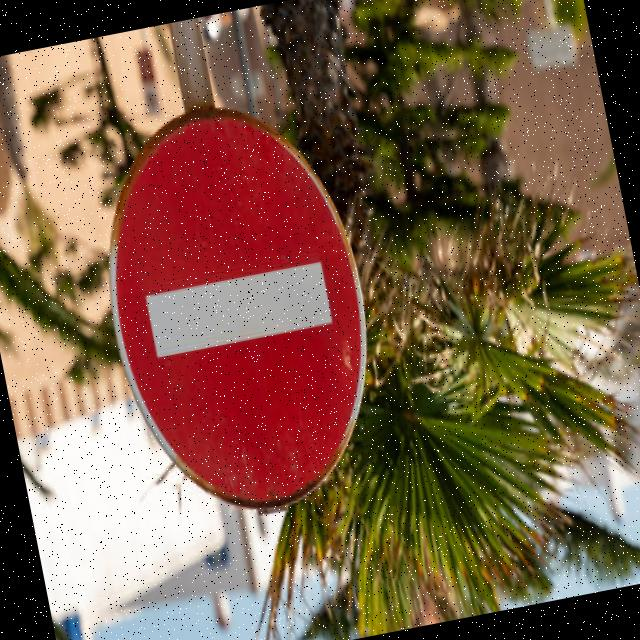do_not_enter: (71, 72, 399, 529)
